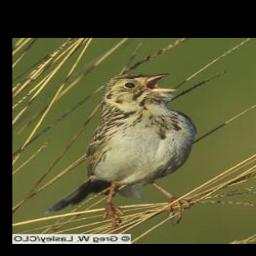Sparrow: (38, 69, 201, 227)
